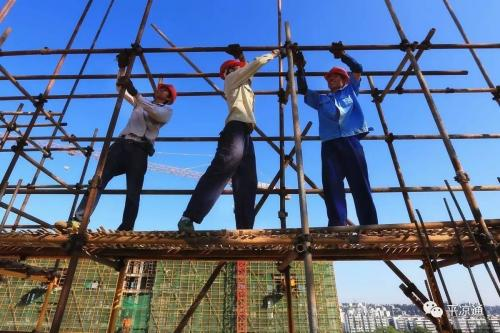boots: (178, 216, 195, 233)
gloves: (116, 75, 137, 95), (289, 42, 306, 66), (224, 42, 245, 60), (294, 68, 308, 95), (329, 40, 345, 58)
hard-hat: (324, 67, 349, 90), (219, 59, 245, 80), (156, 82, 176, 104)
person: (177, 42, 282, 234), (72, 45, 176, 233), (290, 40, 379, 232)
